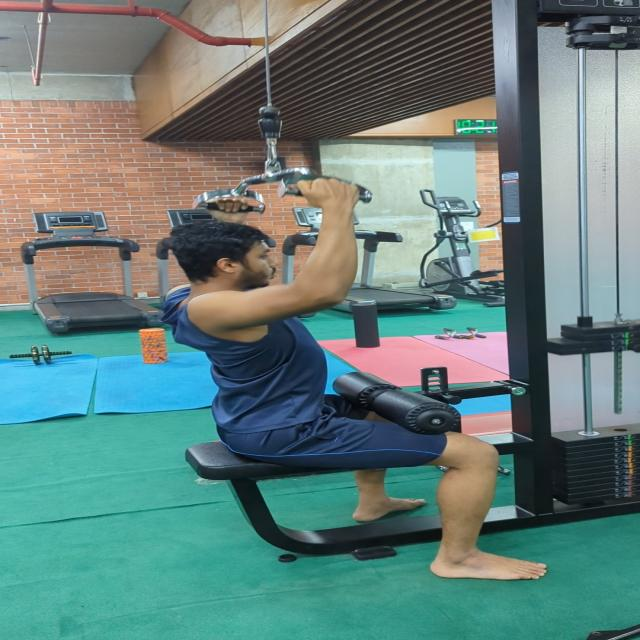Normal_LatPulldown: (145, 154, 569, 584)
